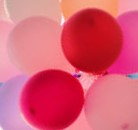Balloon: (61, 7, 123, 73), (18, 70, 86, 130), (5, 15, 64, 71), (85, 75, 138, 130)
